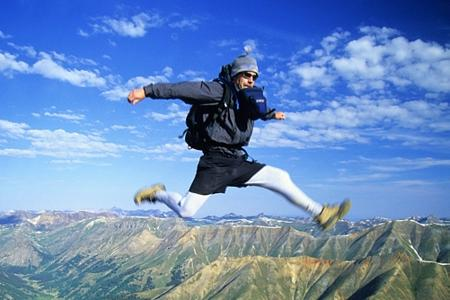person: (125, 54, 354, 229)
